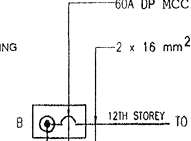Single Phase Tap-Off Unit: (29, 102, 88, 141)
